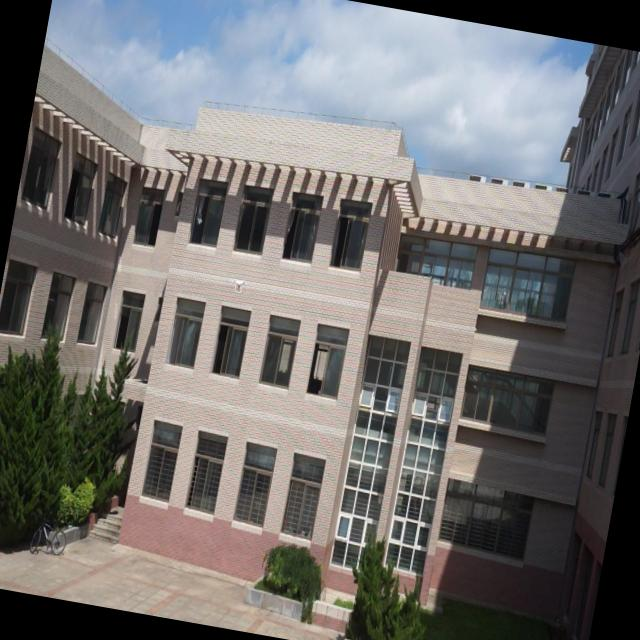drone: (228, 273, 248, 297)
